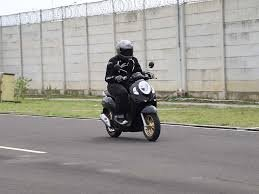motor: (102, 79, 163, 140)
